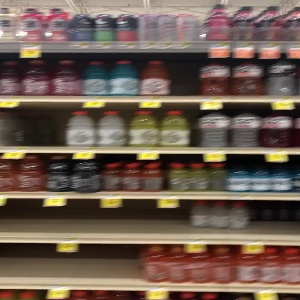void: (1, 199, 297, 241), (1, 242, 144, 285), (1, 100, 67, 152), (173, 52, 200, 99)
